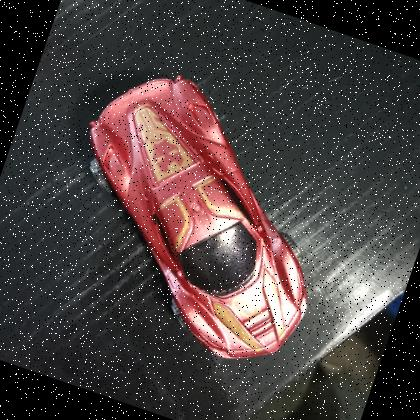Car: (22, 43, 371, 387)
